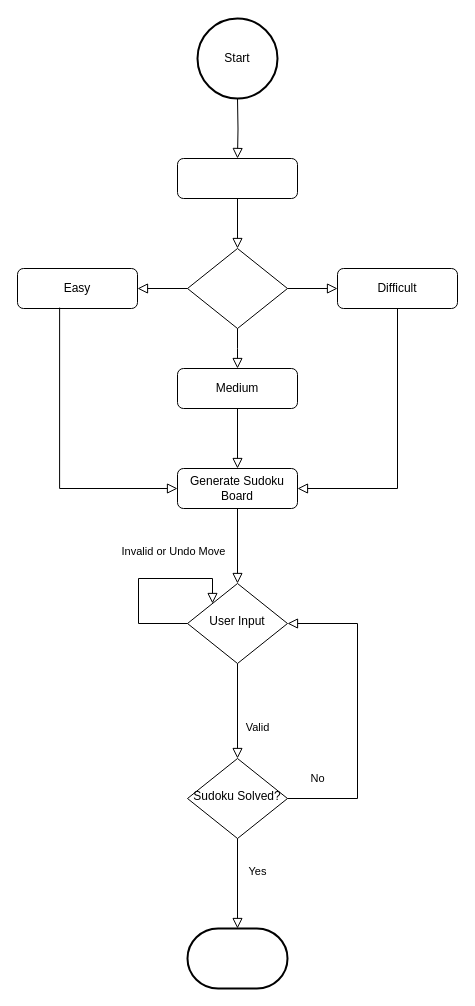
The diagram is 475 pixels wide and 1006 high, and some of its shapes have lost their labels. Each missing label, with the box of its shape:
Select Difficulty: (186, 248, 288, 328)
Welcome Screen: (176, 158, 298, 198)
You won! Game over!: (186, 927, 288, 989)
